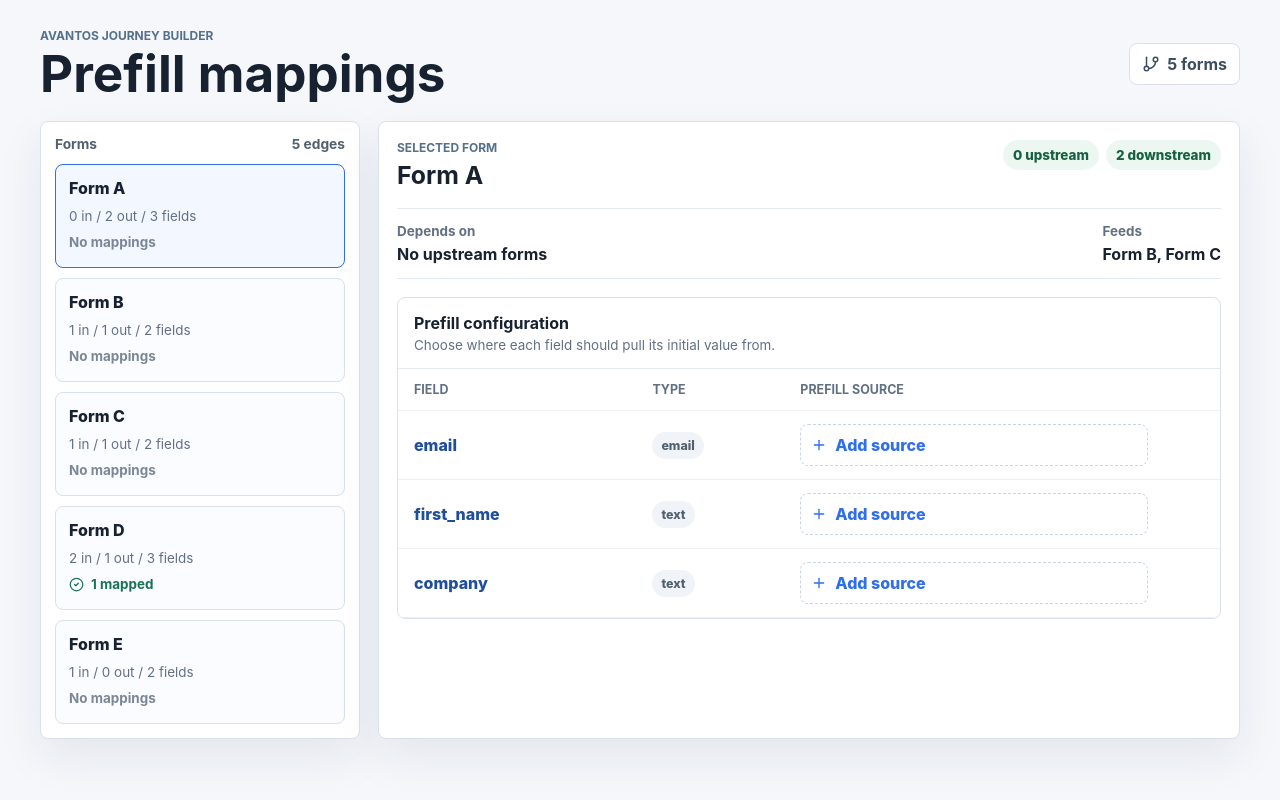
App › opens the source picker and maps a field from a provider source
Click the button "Form D 2 in / 1 out / 3 fields 1 mapped". click: (97, 530)
box: [55, 506, 345, 610]
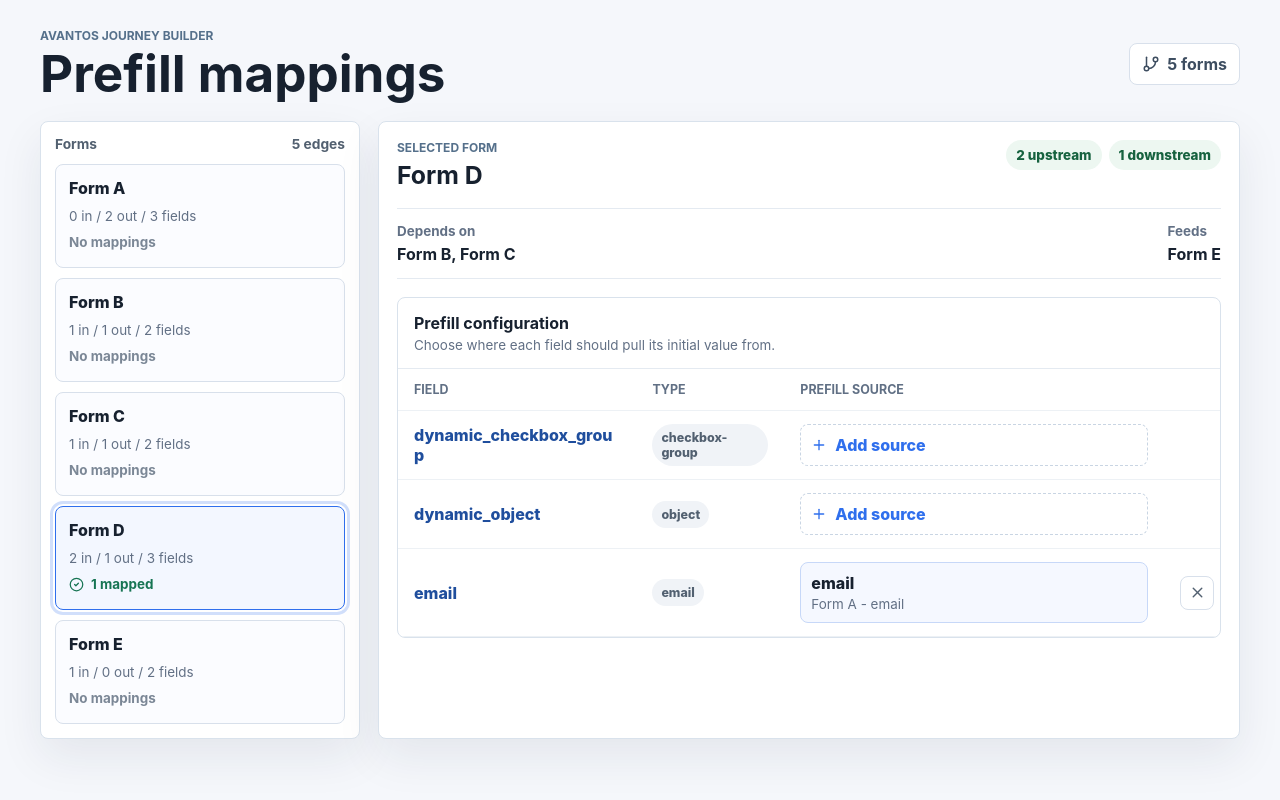
Click the button "Add source" next to "checkbox-group". click: (881, 445)
box: [800, 424, 1148, 466]
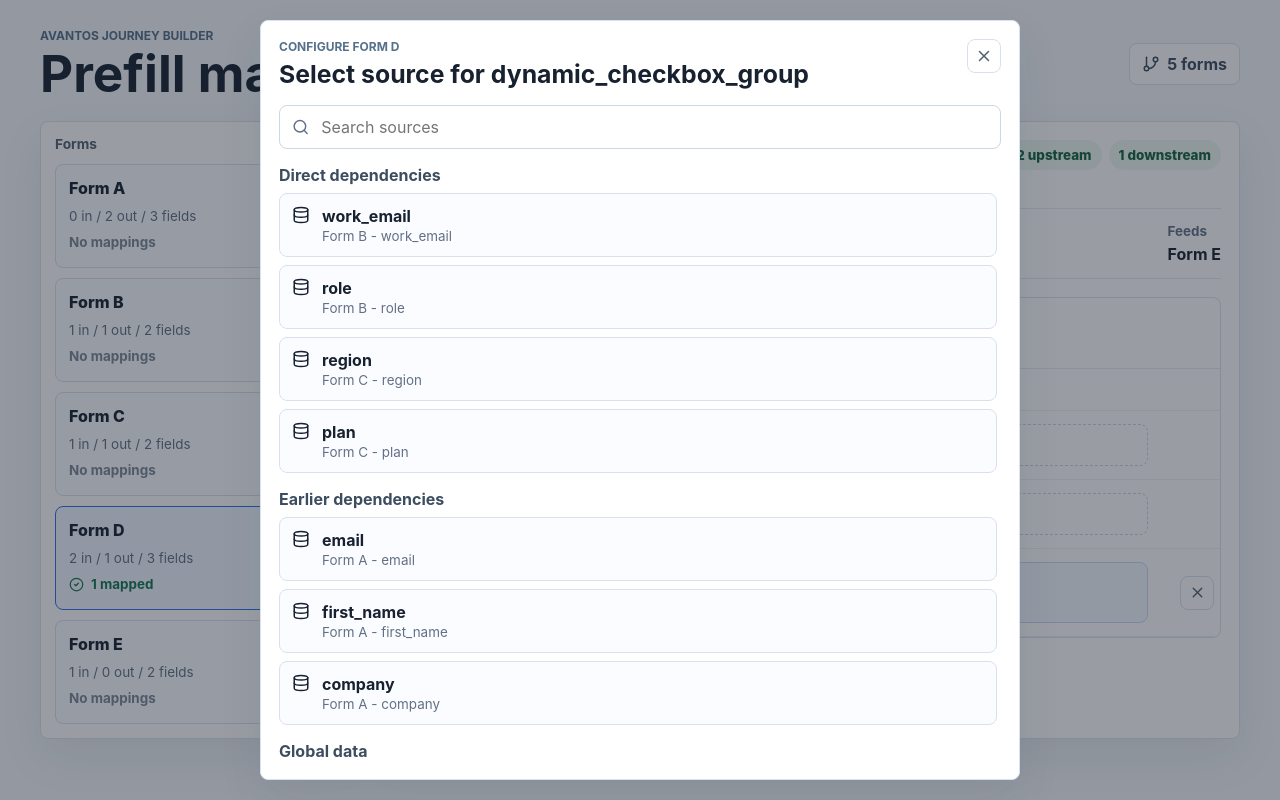
expect the heading "Direct dependencies" is shown: met, box [279, 165, 441, 185]
expect the heading "Earlier dependencies" is shown: met, box [279, 489, 444, 509]
expect the heading "Global data" is shown: met, box [279, 741, 367, 761]
Click the button "work_email Form B - work_email". click: (366, 216)
box: [279, 193, 997, 257]
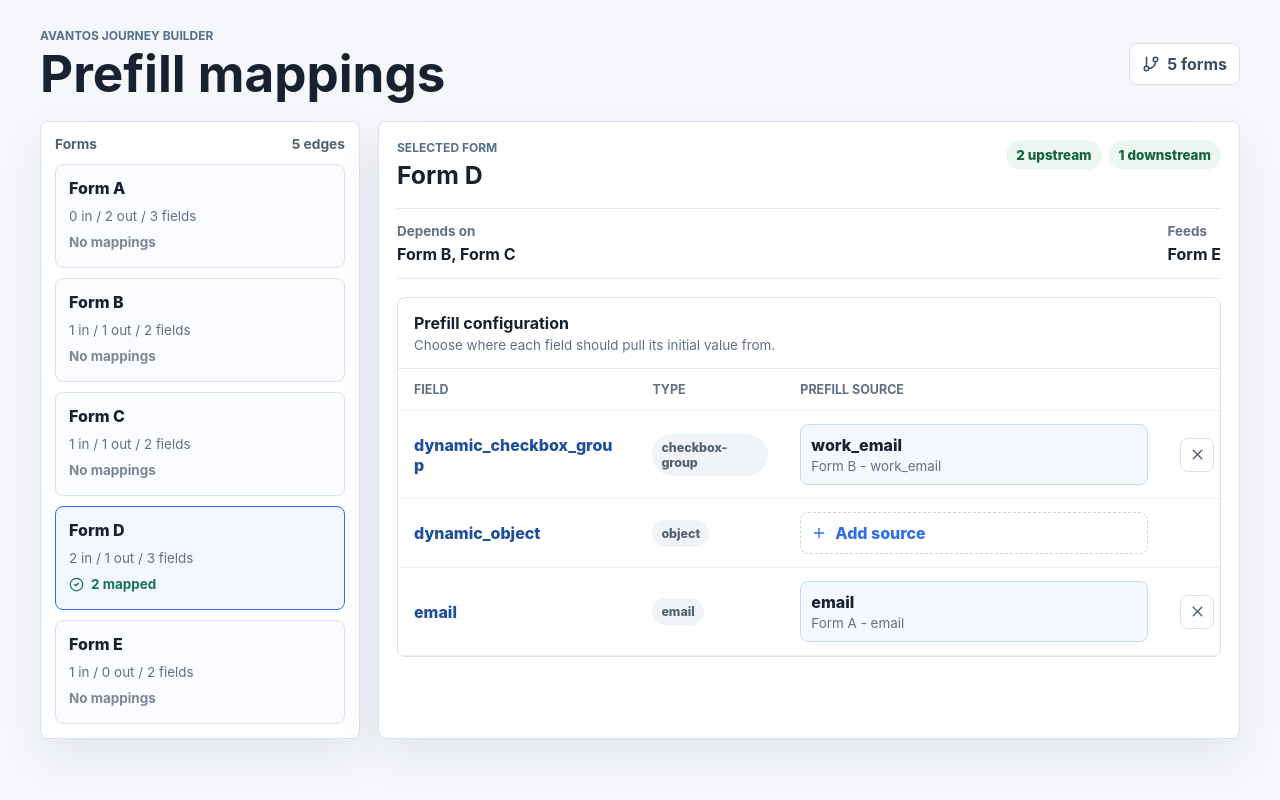
expect the text "Form B - work_email" is shown: met, box [811, 458, 941, 474]
expect the dialog is gone: met
